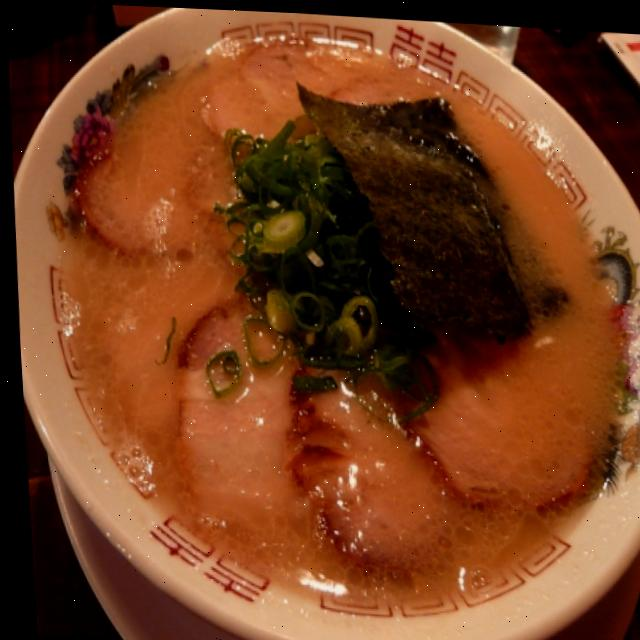面条主食: (46, 22, 627, 598)
